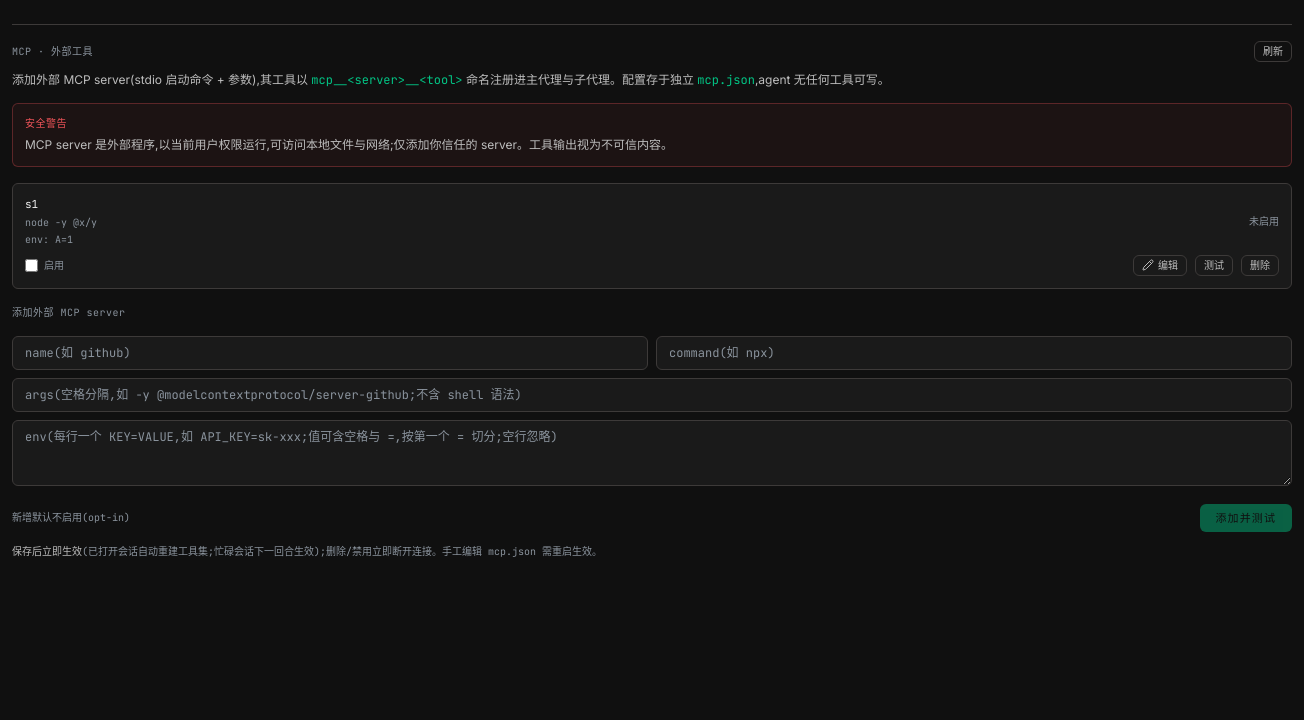
Test: McpPanel 编辑已有 server › startEdit 回填表单(name/command/args/env)+ 编辑态 UI 联动
What coordinates should you click on to do the following:
click the button with test id "edit-s1"
I would click on:
 (1160, 265)
Its box is [1133, 254, 1187, 276].
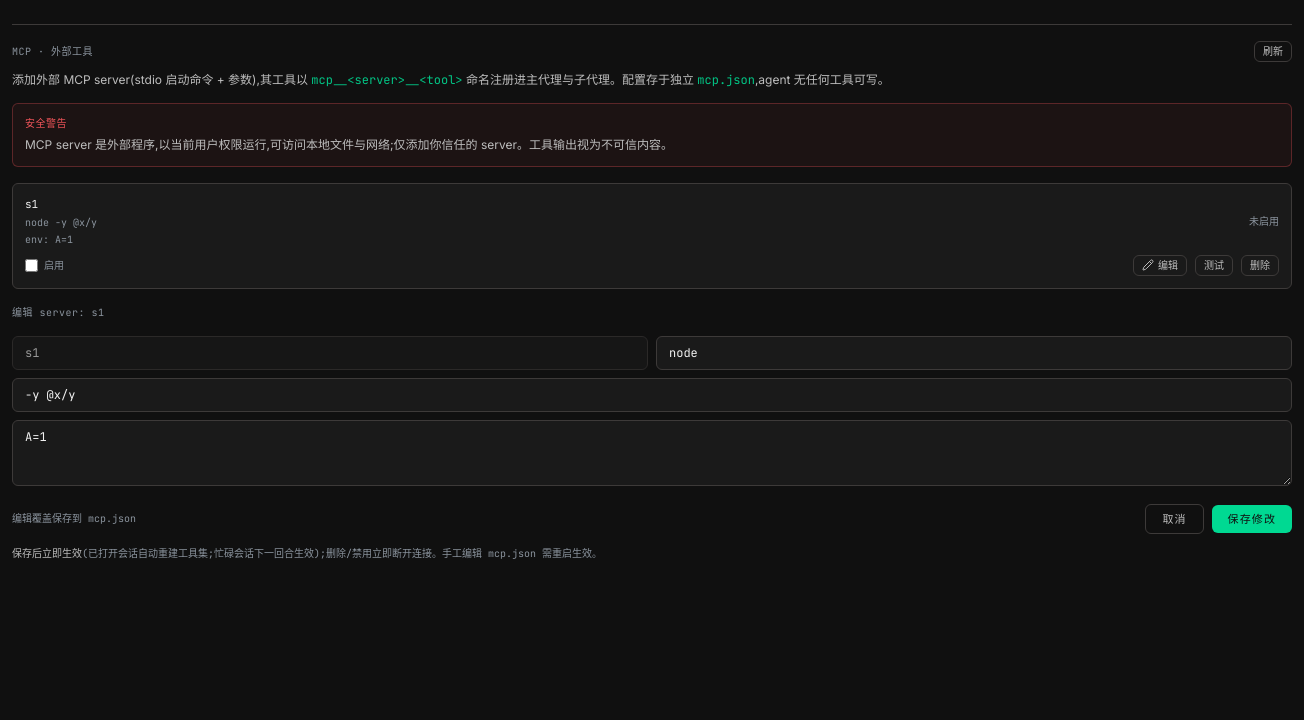
Expected: the field named "name 不可修改;如需改名请删除后重新添加" holds "s1", [12, 336, 648, 370]
Expected: the 2nd field holds "node", [656, 336, 1292, 370]
Expected: the 3rd field holds "-y @x/y", [12, 378, 1292, 412]
